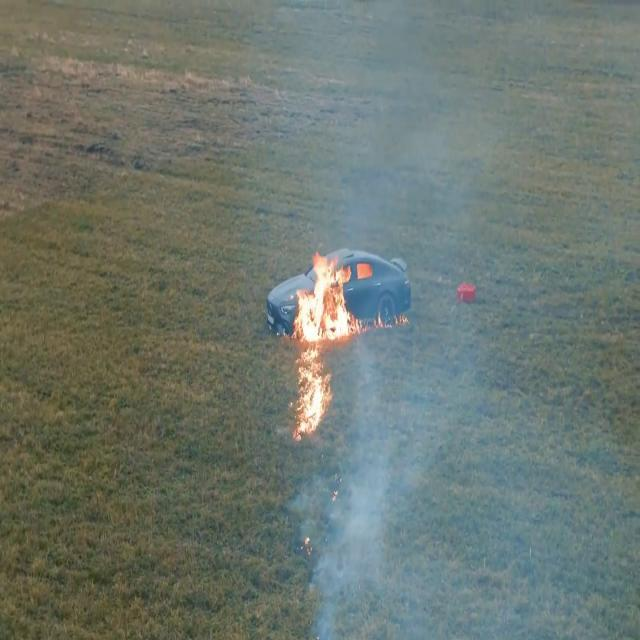Fire: (292, 244, 361, 440)
Smoke: (307, 311, 496, 640), (272, 21, 475, 255)
